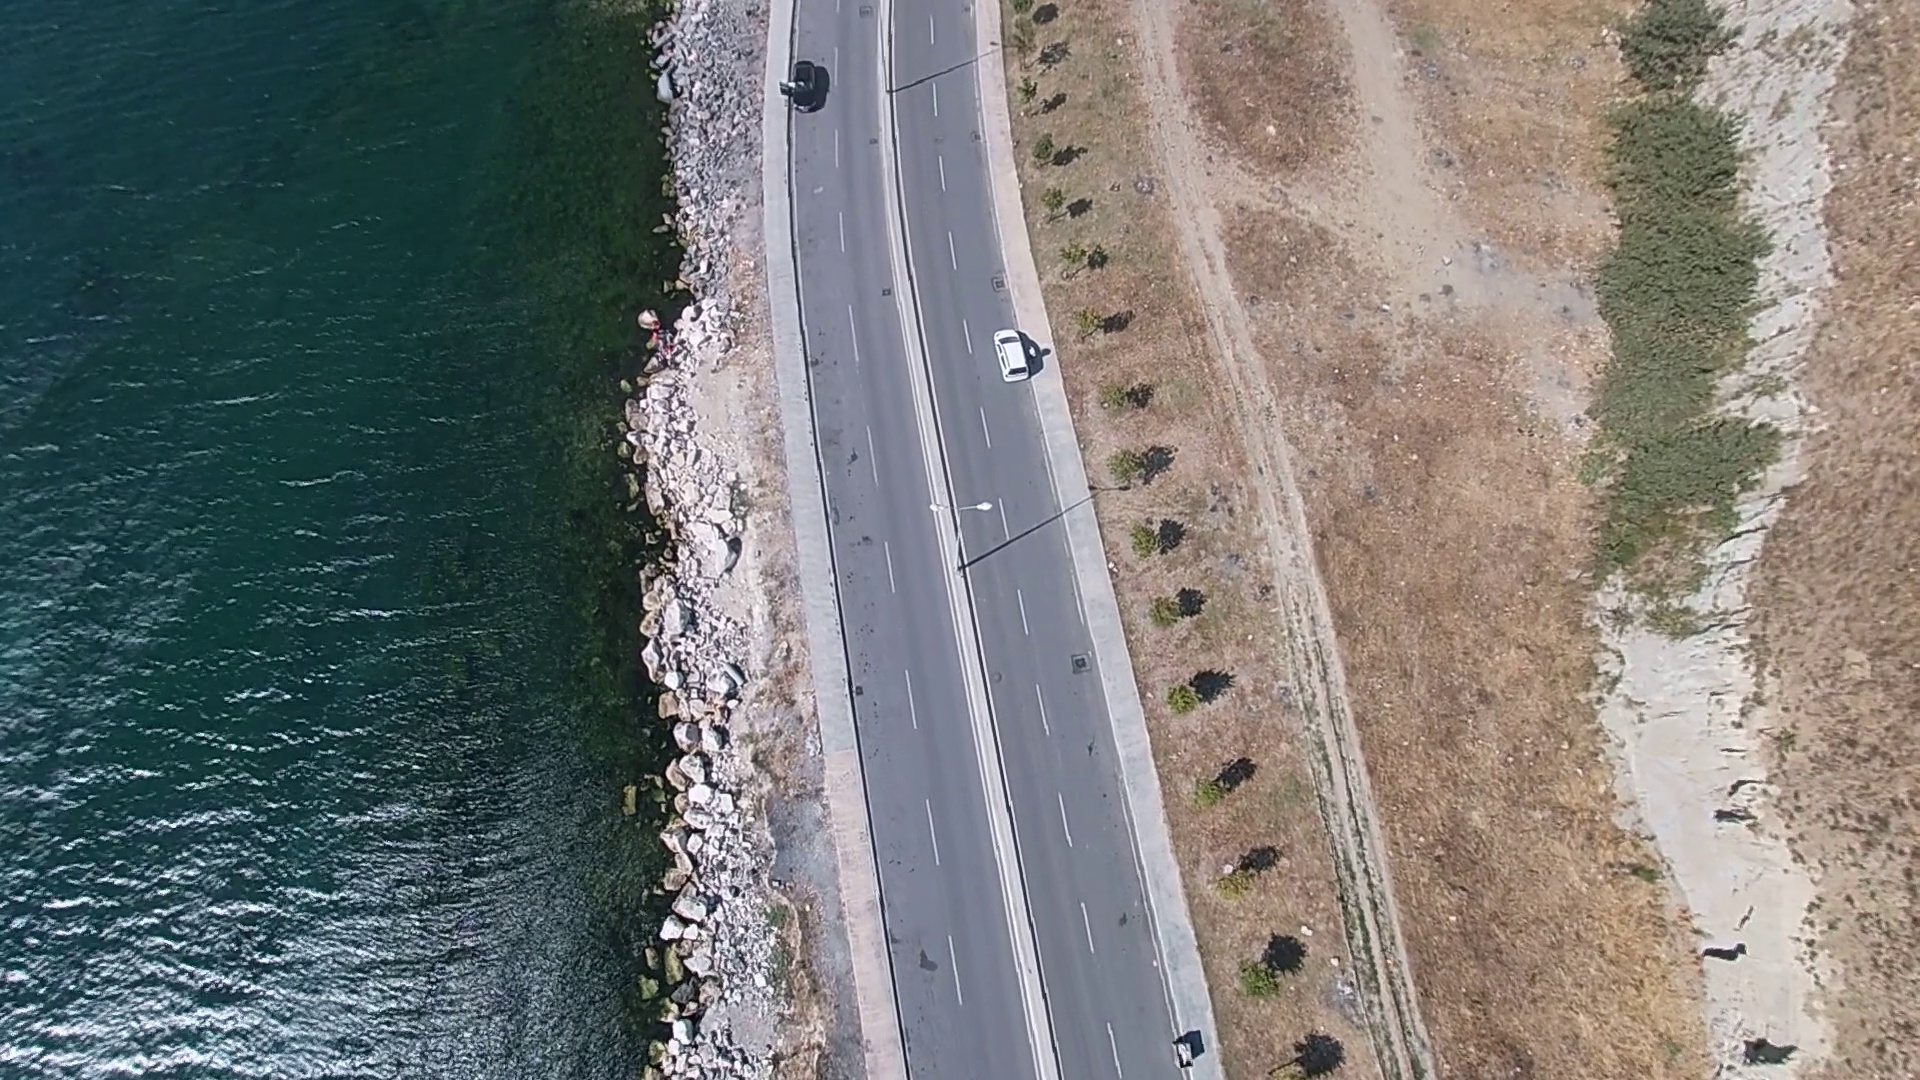arac: (986, 322, 1037, 384), (783, 60, 829, 108)
insan: (1162, 585, 1204, 622), (1168, 1029, 1203, 1070)
